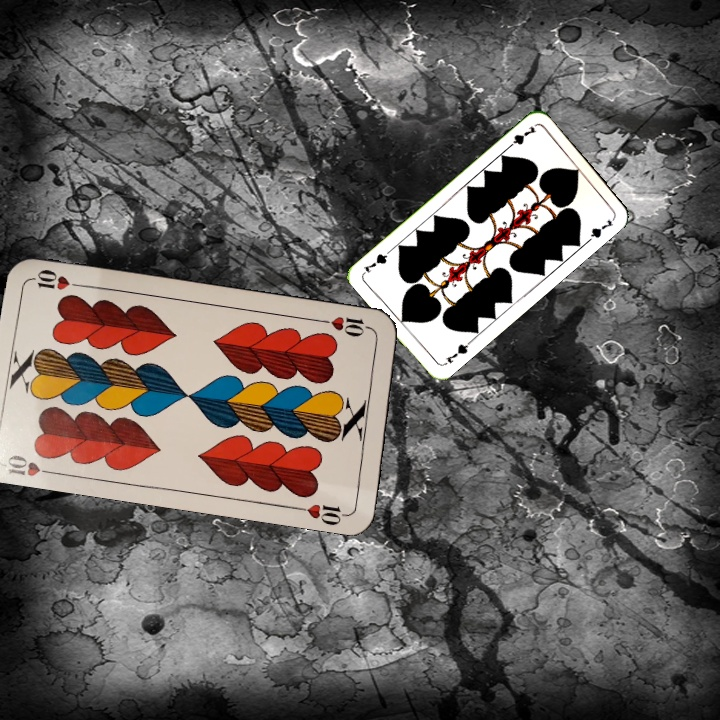G7: (502, 122, 539, 152), (439, 337, 473, 368)
H10: (1, 449, 61, 479), (317, 312, 376, 340)
